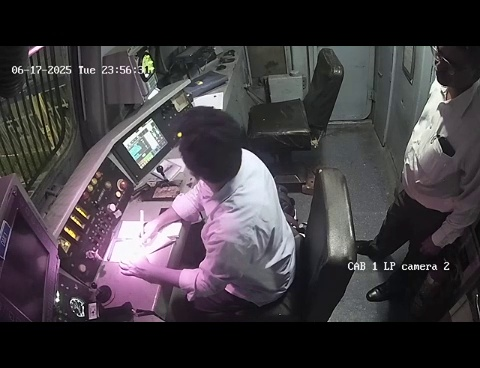horn_inactive: (79, 274, 123, 313)
